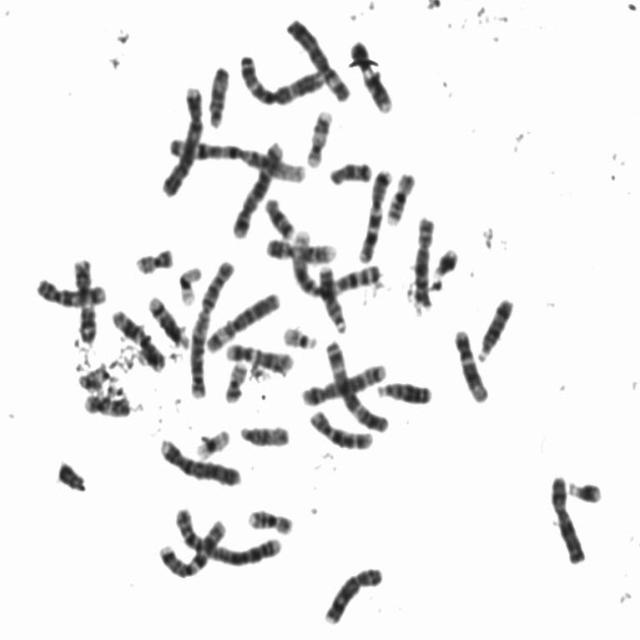A1: (160, 128, 310, 185), (284, 224, 384, 300)
A2: (168, 498, 286, 568), (184, 251, 236, 401)
A3: (319, 332, 392, 433), (233, 46, 328, 108)
B4: (154, 77, 206, 199), (153, 429, 244, 488)
B5: (226, 132, 285, 239), (295, 356, 389, 408)
C10: (304, 402, 376, 451), (30, 270, 110, 308)
C11: (106, 301, 166, 372), (67, 249, 99, 344)
C12: (448, 321, 491, 405), (220, 335, 296, 375)
C6: (280, 8, 353, 103), (201, 284, 281, 354)
C7: (153, 509, 231, 580), (352, 159, 396, 265)
C8: (318, 558, 386, 627), (407, 207, 437, 312)
C9: (344, 32, 395, 115), (260, 228, 340, 264)
D13: (313, 257, 350, 334), (370, 372, 434, 406)
D14: (472, 288, 516, 364), (143, 288, 190, 350)
D15: (203, 57, 231, 130), (234, 416, 292, 449)
E16: (381, 164, 418, 226), (242, 501, 295, 536)
E17: (300, 102, 334, 170), (78, 387, 132, 418)
E18: (259, 189, 298, 240), (323, 153, 375, 187)
F19: (189, 420, 233, 460), (172, 257, 204, 306)
F20: (129, 239, 176, 276), (218, 354, 249, 404)
G21: (426, 239, 462, 280), (562, 471, 605, 505)
G22: (277, 317, 320, 351), (76, 360, 115, 394)
X: (543, 467, 588, 565)
Y: (51, 453, 88, 493)
